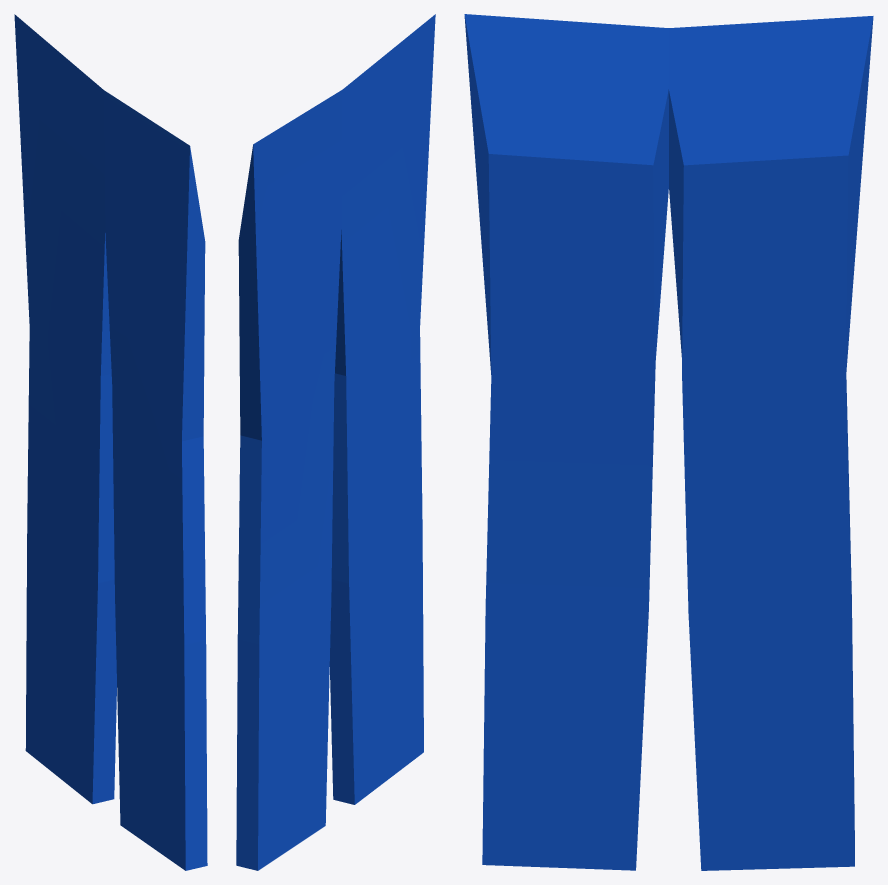
File: Jean.fbx
3 views of the same model, side by side, from view 1: azimuth 30°, elevation 25°; view 2: azimuth 150°, elevation 25°; view 3: azimuth 270°, elevation 25° (orthographic). The views are drawn at different scales.
Parts seen in each view (by area): view 1: Plane.004; view 2: Plane.004; view 3: Plane.004.
Boxes of the visible parts, bbox=[...] form: Plane.004: bbox=[14, 14, 207, 870]; Plane.004: bbox=[236, 14, 435, 870]; Plane.004: bbox=[464, 14, 873, 870].
Bounding box in the file's own units: 11.35 × 278 × 122.
